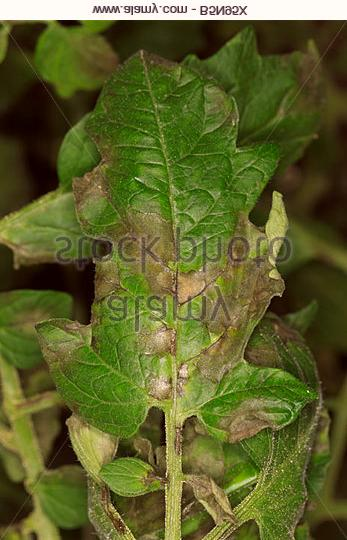Tomato leaf late blight: (36, 34, 319, 460)
